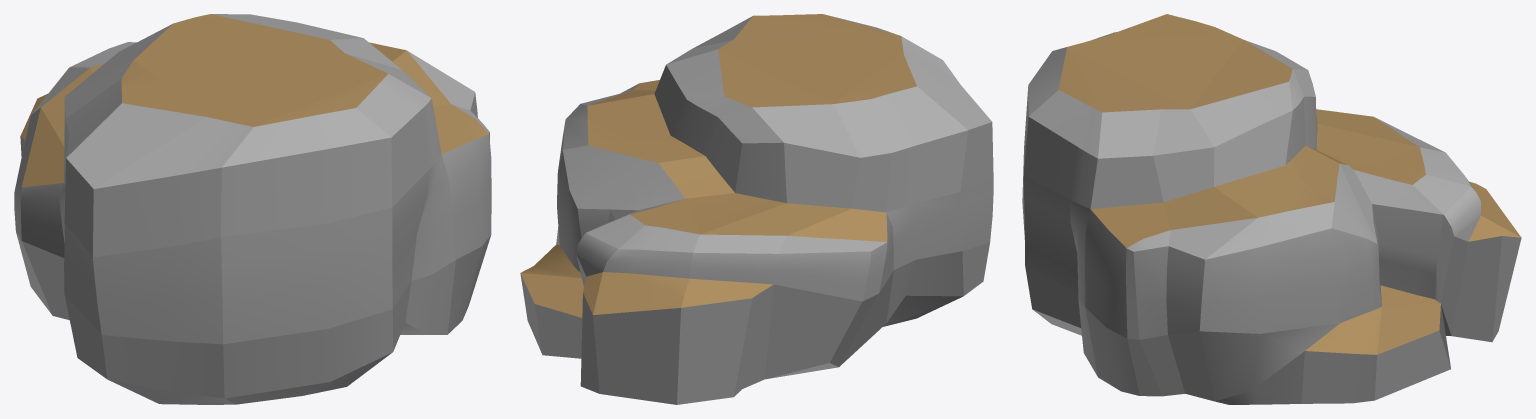
The model's file is 3D_prop_object_BigRock_001.fbx.
3 renders of one model, left to right at view 1: azimuth 30°, elevation 25°; view 2: azimuth 150°, elevation 25°; view 3: azimuth 270°, elevation 25°, orthographic. The views are drawn at different scales.
Visible parts, largest first — view 1: polySurface4; view 2: polySurface4; view 3: polySurface4.
Boxes of the visible parts, box(x1,y1,x2,y2) form: polySurface4: box(14, 14, 491, 404); polySurface4: box(520, 14, 993, 404); polySurface4: box(1022, 14, 1521, 404).
Size of the model in its own units: 2.9 by 1.76 by 3.25.
